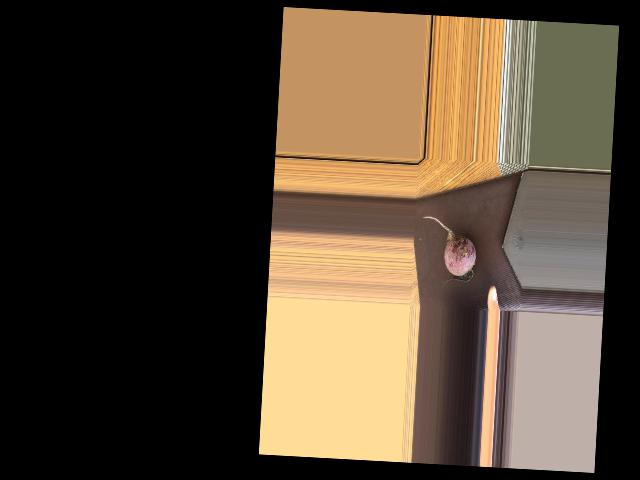beet: (419, 215, 478, 287)
